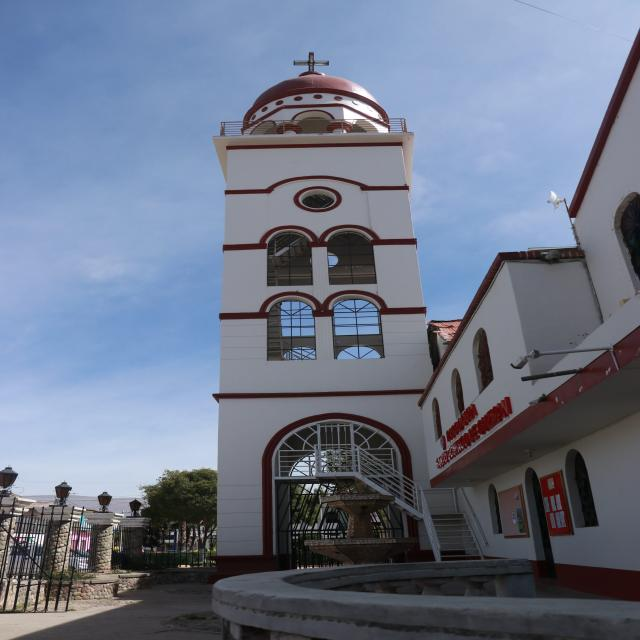CAMPANARIO: (189, 130, 438, 402)
CUPULA: (226, 46, 408, 136)
TORRES: (176, 39, 472, 598)
colonial-architecture-: (139, 0, 640, 640)
